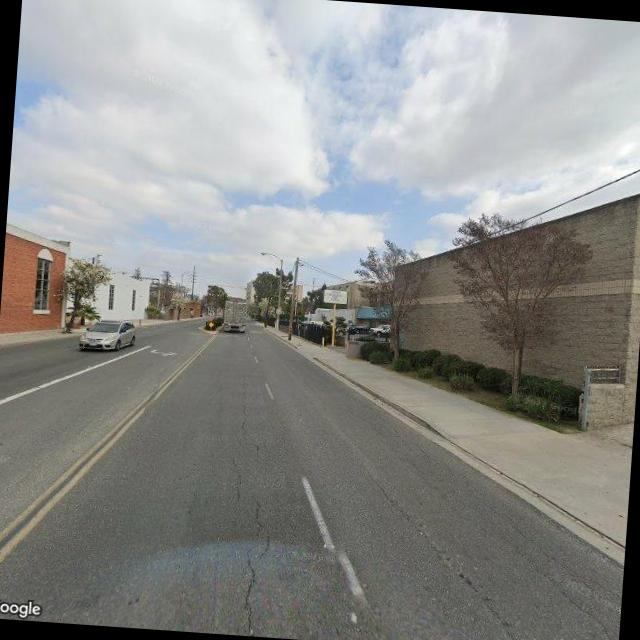pothole: (226, 490, 277, 636)
